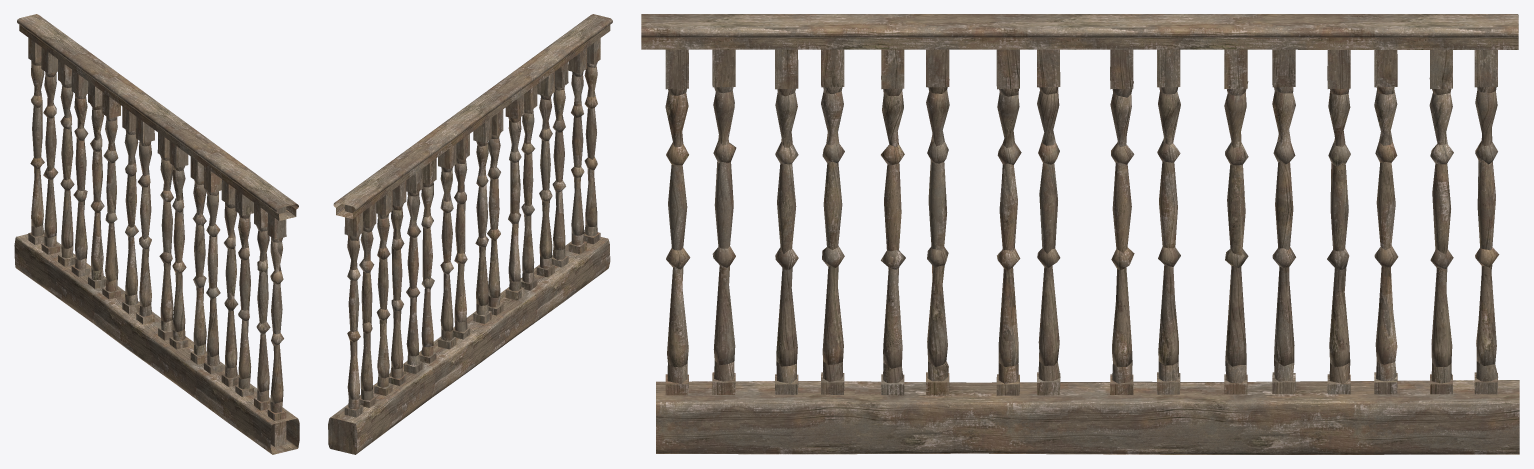
File: SM_Banister.fbx
The picture shows the model from 3 angles, left to right: view 1: azimuth 30°, elevation 25°; view 2: azimuth 150°, elevation 25°; view 3: azimuth 270°, elevation 25°; orthographic projection. The views are drawn at different scales.
Visible parts, largest first — view 1: SM_Banister_LOD0; view 2: SM_Banister_LOD0; view 3: SM_Banister_LOD0.
Part boxes in pixels (<box>): SM_Banister_LOD0: <box>14,14,299,454</box>; SM_Banister_LOD0: <box>328,14,612,454</box>; SM_Banister_LOD0: <box>641,14,1519,454</box>.
Bounding box in the file's own units: 13.41 × 200 × 106.
